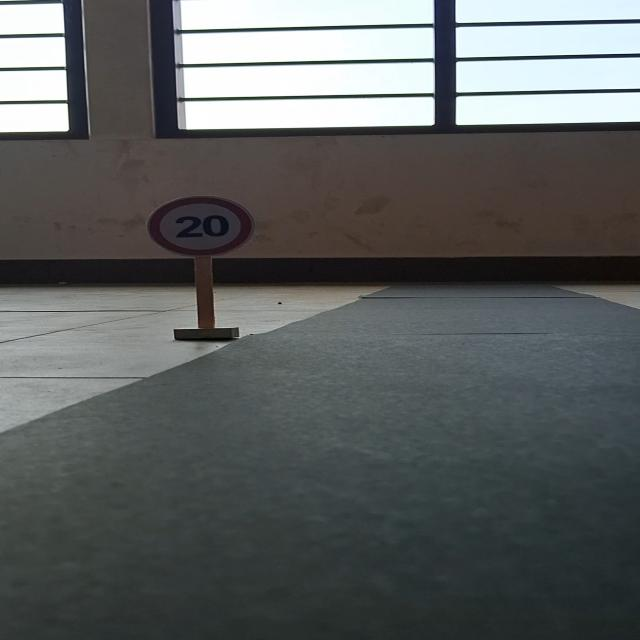Speed20: (142, 192, 261, 260)
